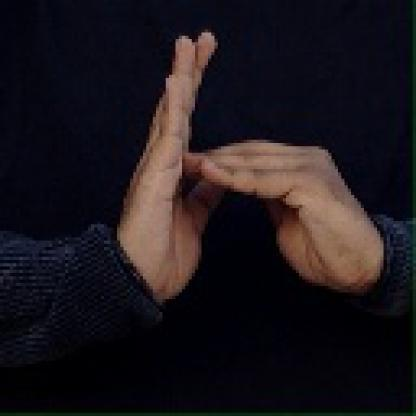Z: (122, 25, 388, 311)
